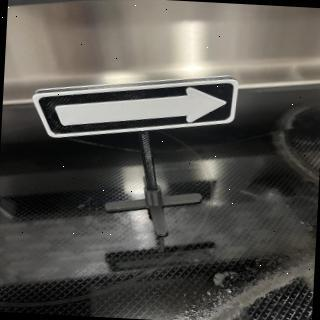sign_oneway_right: (31, 66, 242, 149)
